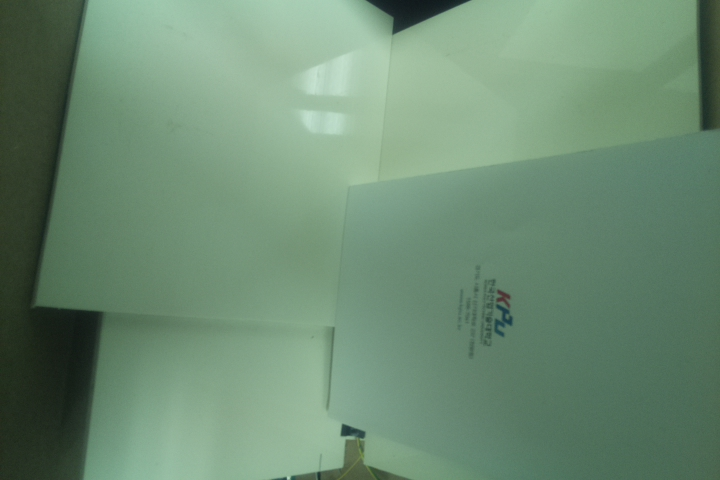book: (326, 127, 720, 479)
